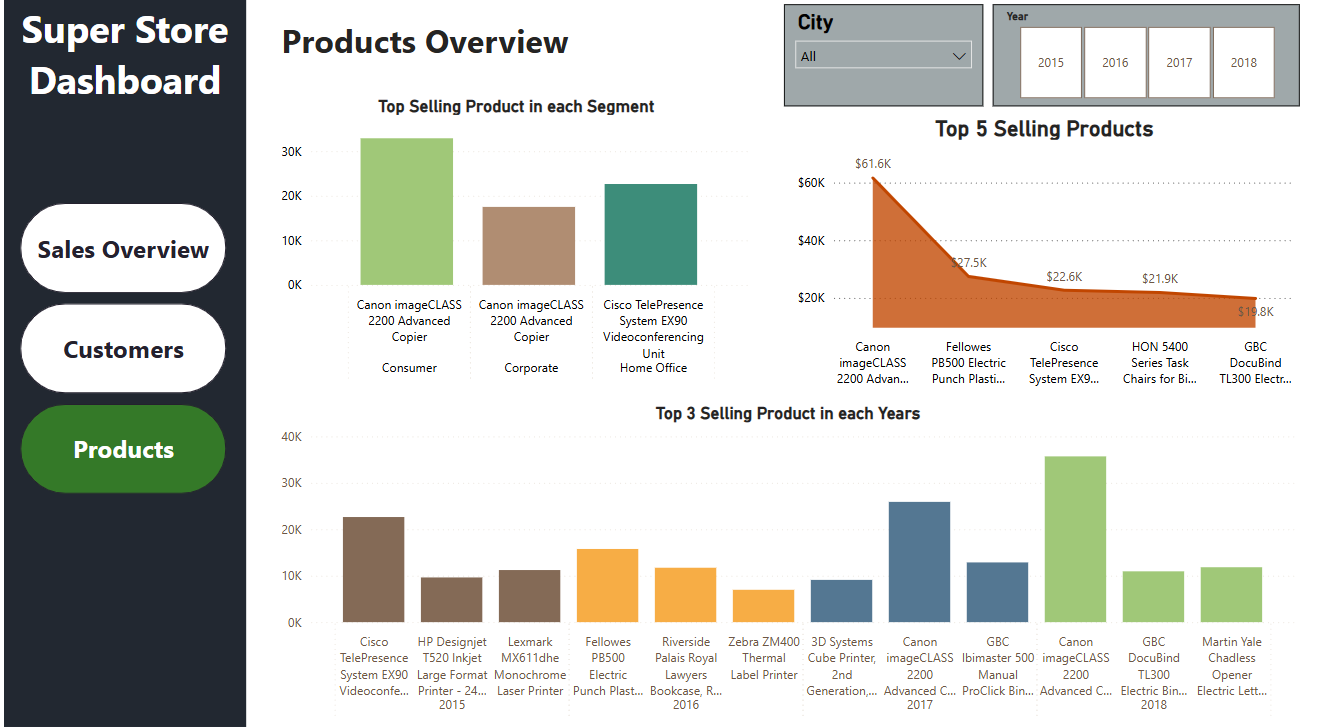

Layout of this report page (visuals, bound fields, positions):
{"tool":"powerbi","page":{"name":"Products","canvas":[1280,720],"ordinal":2},"visuals":[{"type":"areaChart","title":"Top 5 Selling Products","fields":{"Category":["Superstore Sales Dataset.Product Name"],"Y":["Superstore Sales Dataset.Total Sales"]},"box":[775.4,116.2,504.6,270.8],"z":0},{"type":"textbox","box":[0,0,238.8,720.3],"z":1000},{"type":"pageNavigator","box":[16.2,202.8,204,289.8],"z":2000},{"type":"slicer","fields":{"Values":["Superstore Sales Dataset.Order Date.Variation.Date Hierarchy.Year"]},"box":[976.5,6.2,303.5,100.8],"z":2001},{"type":"slicer","fields":{"Values":["Superstore Sales Dataset.City"]},"box":[770,6.2,196.5,100.8],"z":2002},{"type":"textbox","box":[269.4,15.3,343,59.7],"z":2003},{"type":"columnChart","title":"Top 3 Selling Product in each Years","fields":{"Category":["Query1.Year","Query1.Product_Name"],"Y":["Sum(Query1.Revenue per Years)"]},"box":[269.5,399.8,1010.5,320.6],"z":2004},{"type":"columnChart","title":"Top Selling Product in each Segment","fields":{"Y":["Sum(TopProduct_segment.Revenue per Region)"],"Category":["TopProduct_segment.Segment","TopProduct_segment.Product_Name"]},"box":[269.5,95.8,473.9,291.3],"z":2005}]}

Visuals, with their boxes in screenshot pixels (x1, y1, x2, y2), scaled from the page's 1280x720 canvas onto the 1331x727 screenshot:
"Top 5 Selling Products" areaChart: bbox=(806, 117, 1330, 391)
textbox: bbox=(0, 0, 248, 726)
pageNavigator: bbox=(17, 205, 229, 497)
slicer - Superstore Sales Dataset.Order Date.Variation.Date Hierarchy.Year: bbox=(1015, 6, 1330, 108)
slicer - Superstore Sales Dataset.City: bbox=(801, 6, 1005, 108)
textbox: bbox=(280, 15, 637, 76)
"Top 3 Selling Product in each Years" columnChart: bbox=(280, 404, 1330, 726)
"Top Selling Product in each Segment" columnChart: bbox=(280, 97, 773, 391)
